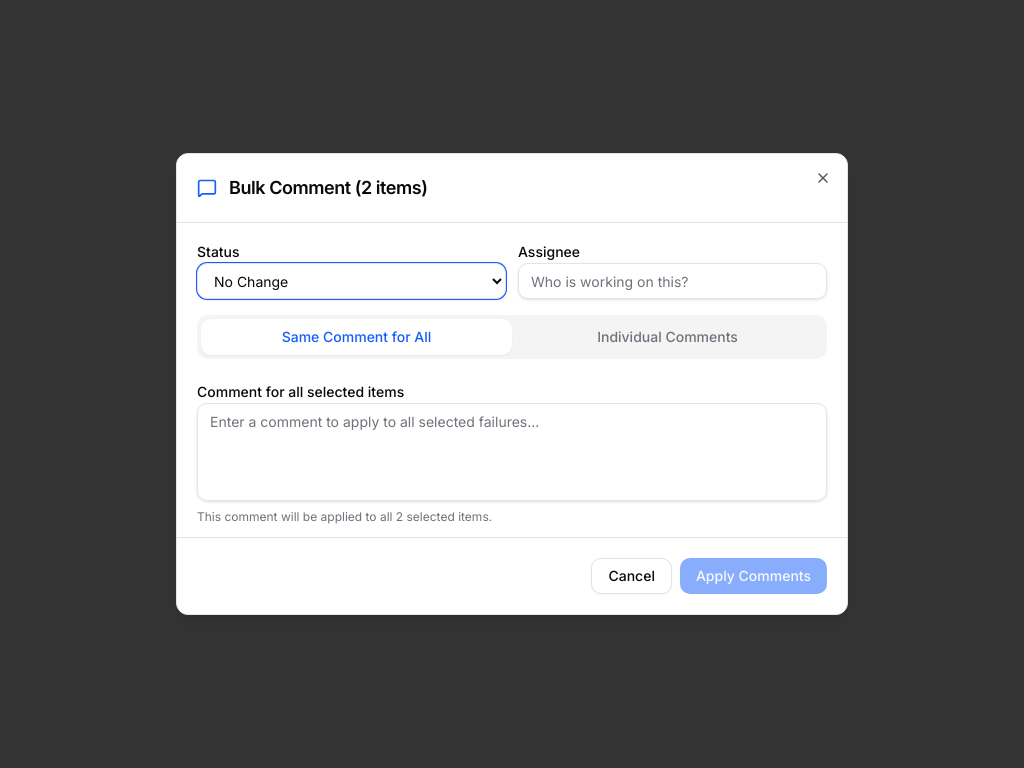
Test case: BulkCommentModal › Mode switching › should switch to individual mode when clicked
Click the button with test id "mode-individual". click: (668, 337)
box: [512,319,823,355]
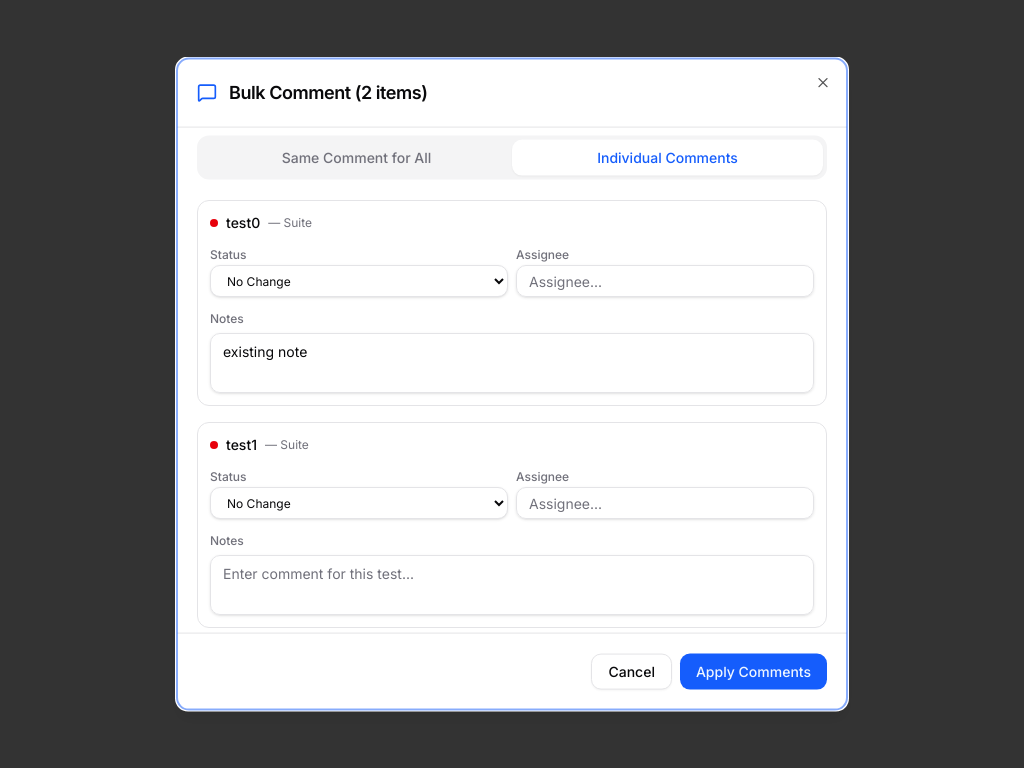
Expected: the text box with test id "individual-comment-Suite-test0" is shown, [210,333,814,393]
Expected: the text box with test id "individual-comment-Suite-test1" is shown, [210,555,814,615]
